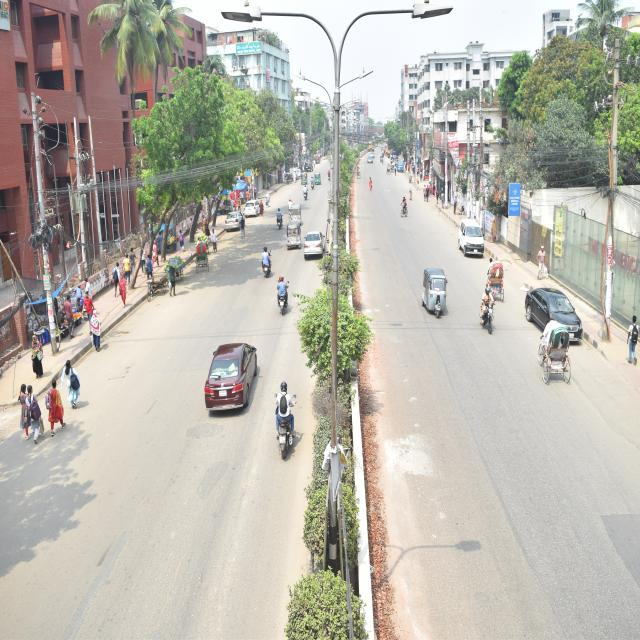car: (189, 315, 273, 431), (519, 272, 606, 380), (455, 201, 512, 289), (300, 218, 340, 275), (239, 181, 271, 222), (218, 202, 250, 234), (365, 146, 377, 168)
motorbike: (266, 363, 306, 483), (468, 268, 517, 349), (271, 269, 308, 327), (250, 242, 280, 282), (272, 202, 292, 236), (298, 174, 310, 212), (308, 166, 320, 200)
